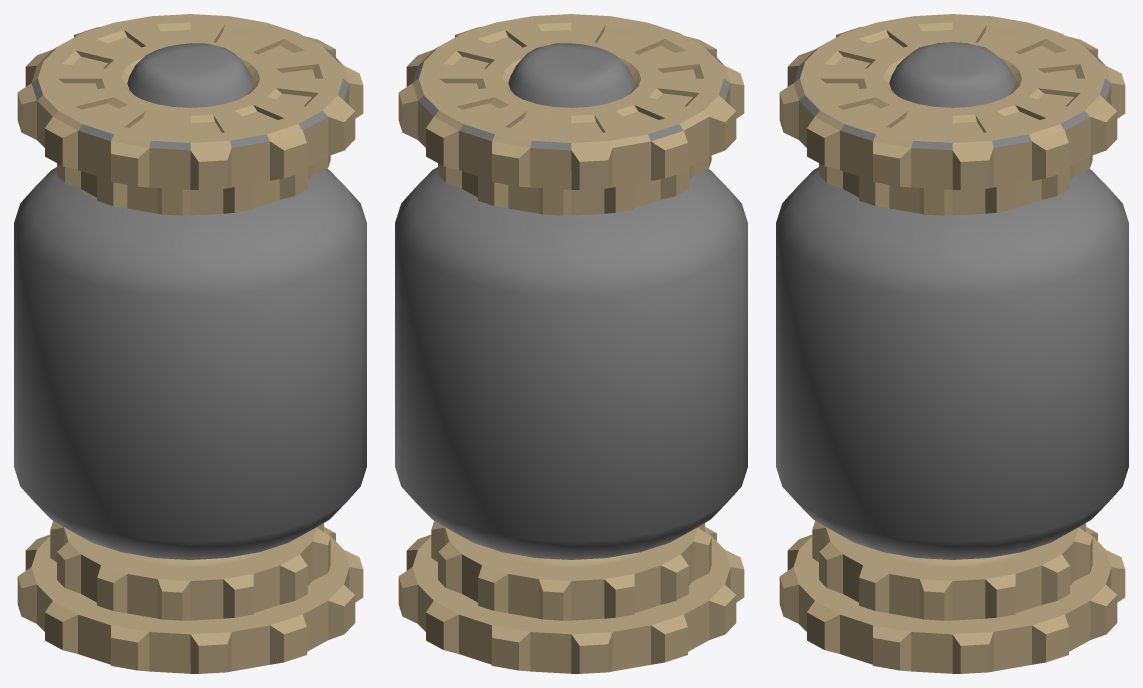
The model's file is UpgradeCurrency.fbx.
The picture shows the model from 3 angles, left to right: view 1: azimuth 30°, elevation 25°; view 2: azimuth 150°, elevation 25°; view 3: azimuth 270°, elevation 25°; orthographic projection.
Parts seen in each view (by area): view 1: UpgradeCurrency; view 2: UpgradeCurrency; view 3: UpgradeCurrency.
Part boxes in pixels (x1,y1,x2,y2): UpgradeCurrency: (14,14,366,673); UpgradeCurrency: (395,14,747,673); UpgradeCurrency: (776,14,1128,673).
Bounding box in the file's own units: 40.46 × 69.08 × 40.46.
